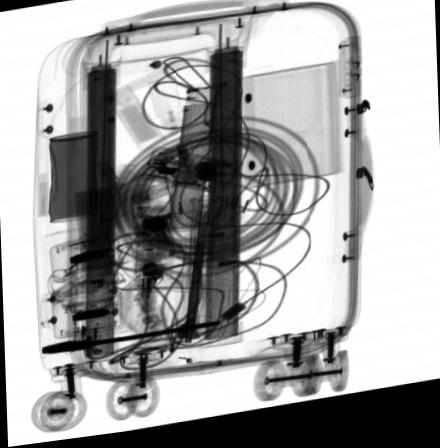Wrench: (40, 326, 220, 356)
